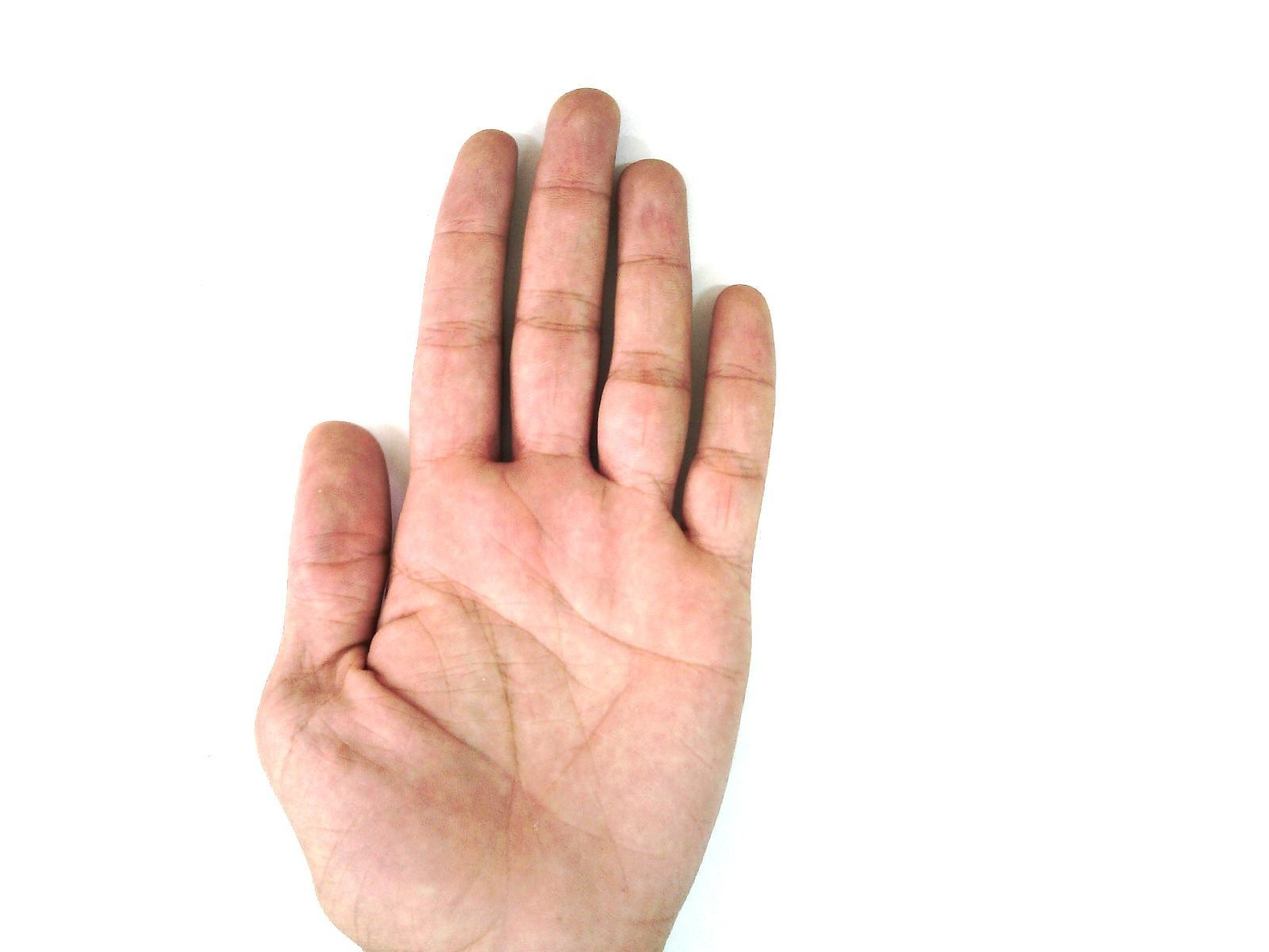open_palm: (252, 87, 780, 951)
